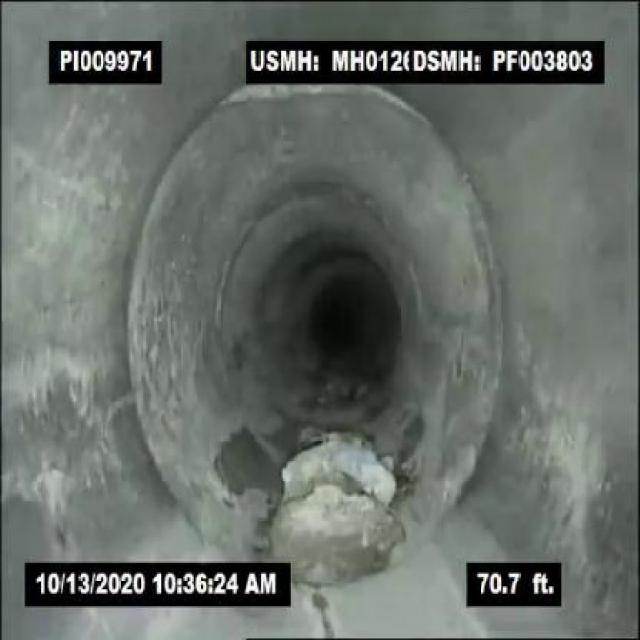Debris: (246, 398, 442, 554)
